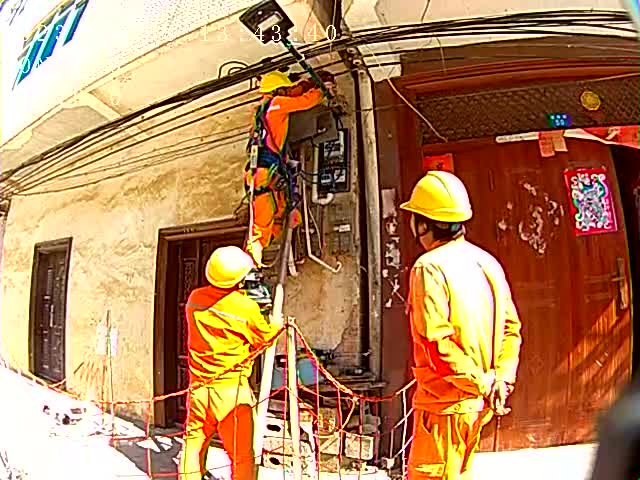halt: (391, 169, 475, 247), (205, 246, 253, 288), (260, 71, 295, 96)
hand: (487, 382, 517, 417)
inear: (411, 212, 429, 245)
person: (391, 168, 524, 480), (175, 241, 281, 480), (241, 68, 332, 248)
safebelt: (243, 95, 305, 221)
ydownsuit: (178, 382, 255, 480), (406, 412, 490, 480), (243, 172, 301, 253)
yupsuit: (406, 237, 523, 409), (184, 286, 279, 376), (250, 81, 324, 163)
